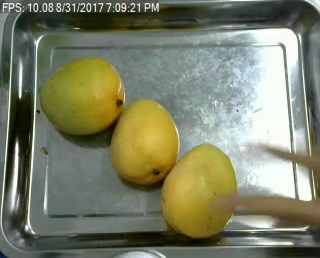Mango: (37, 56, 125, 136), (161, 144, 236, 235), (111, 97, 179, 184)
